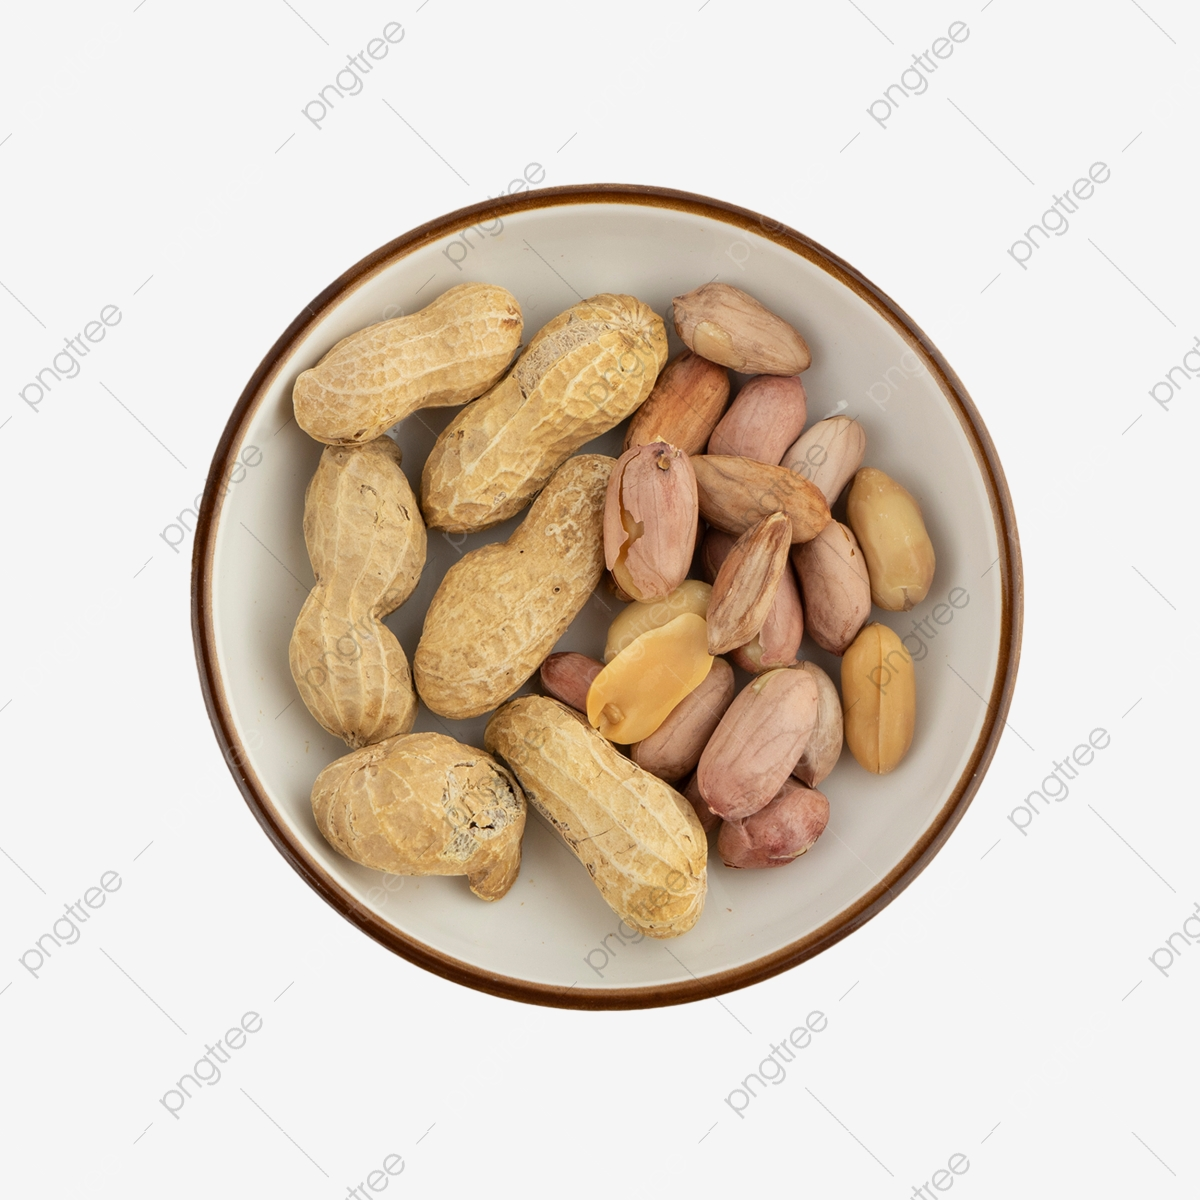kacang1: (299, 727, 538, 909)
kacang2: (408, 300, 714, 543), (470, 671, 723, 963), (395, 458, 645, 722), (262, 418, 432, 758), (270, 273, 537, 454)
